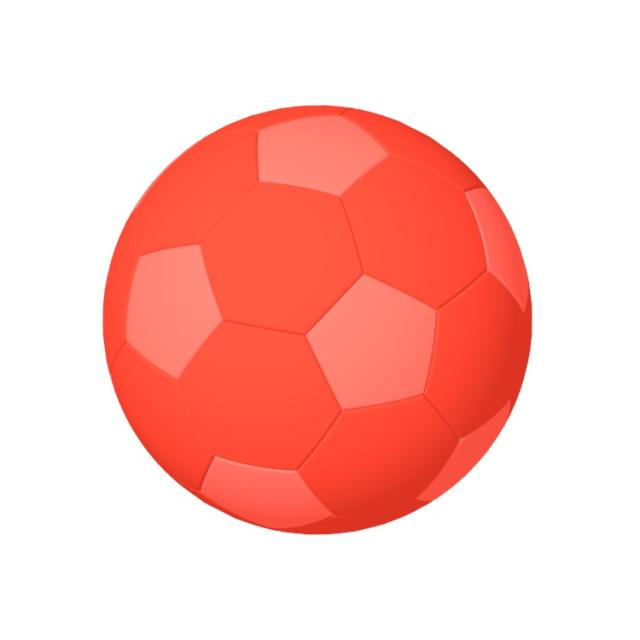soccer ball: (96, 106, 532, 533)
